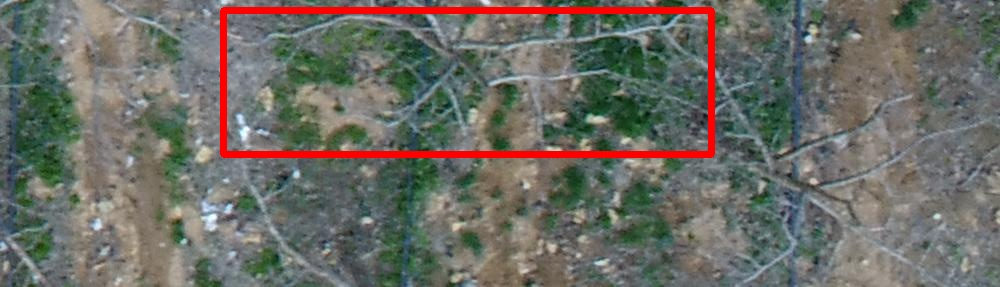apple: (223, 10, 711, 154)
